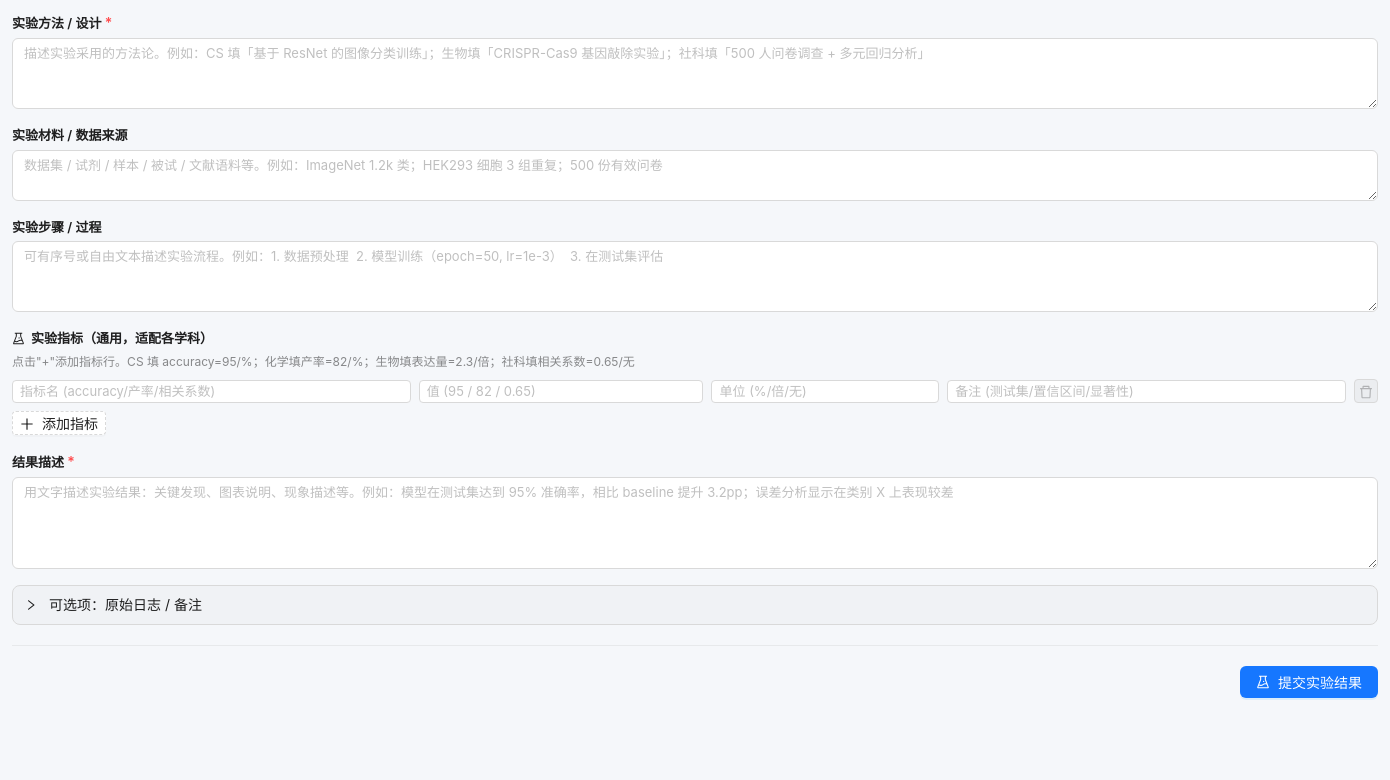
Test: components/ExperimentInputForm › 指标增删：addMetric 增加，removeMetric 删除（metrics.length > 1 时才允许）
Expected: the 1st button is disabled, [1354,380,1378,404]
Click the button "添加指标" at (59, 424), box [12,412,106,436]
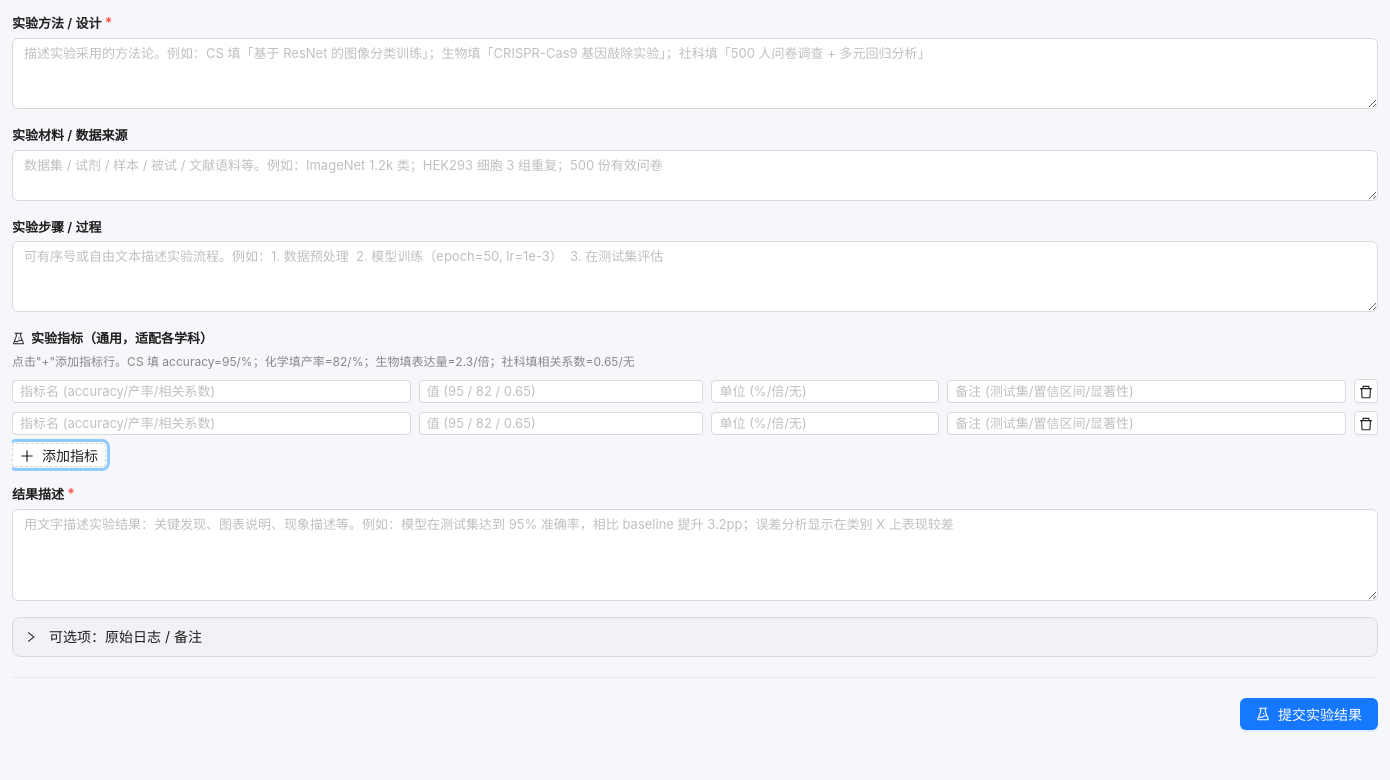
Expected: the number of fields with placeholder "指标名 (accuracy/产率/相关系数)" is 2, [12,380,411,403]; [12,412,411,435]
Expected: the 1st button is enabled
Click the 1st button at (1366, 392), box [1354,380,1378,404]
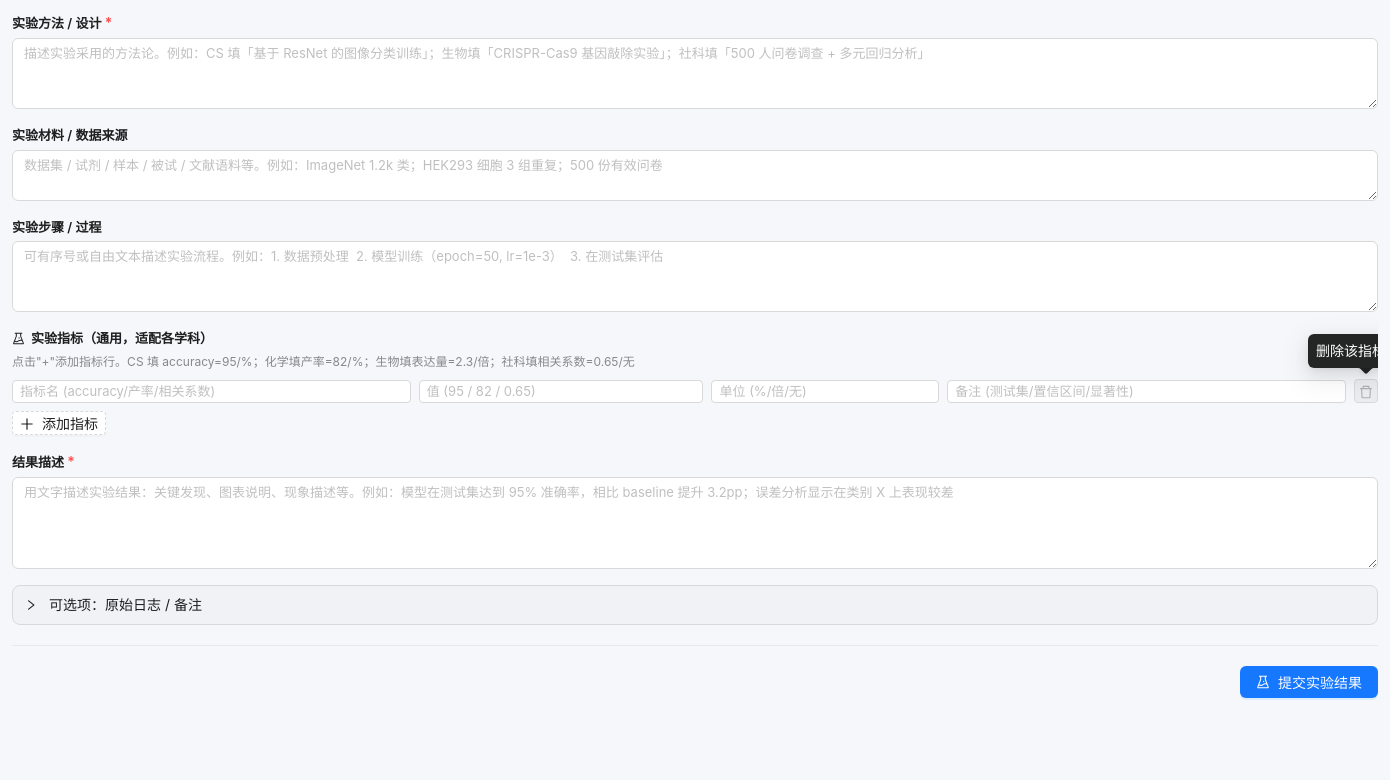
Expected: the number of fields with placeholder "指标名 (accuracy/产率/相关系数)" is 1, [12,380,411,403]
